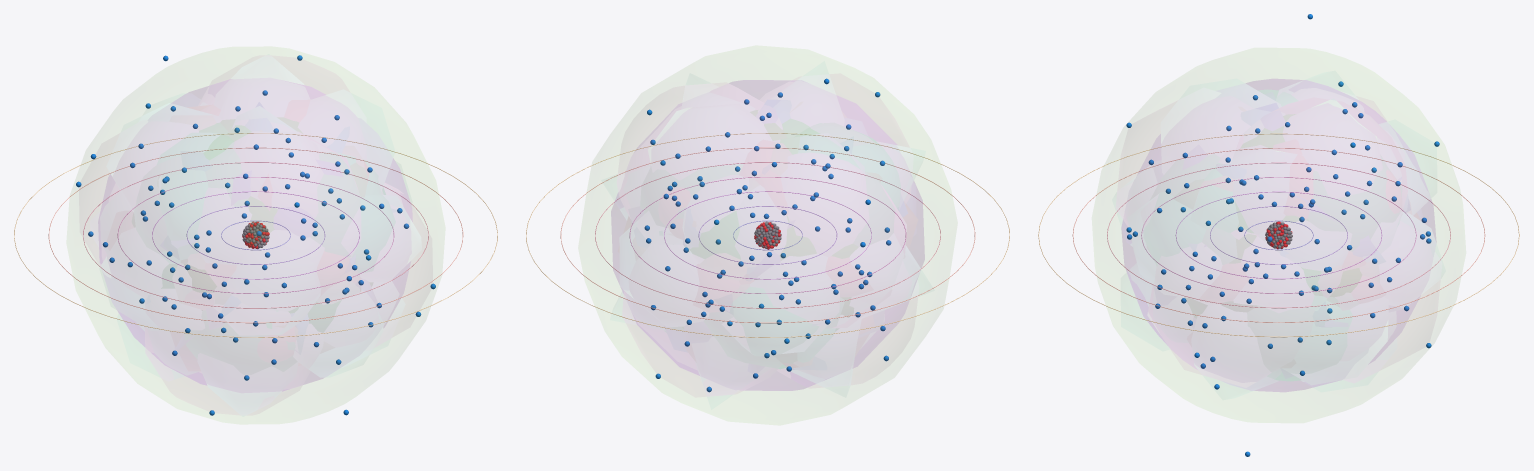
3 views of the same model, side by side, from view 1: azimuth 30°, elevation 25°; view 2: azimuth 150°, elevation 25°; view 3: azimuth 270°, elevation 25° (orthographic).
Parts seen in each view (by area): view 1: Orbital_5s_0, Nivel_n7, Nivel_n6, Nivel_n5, Nivel_n4, Nivel_n3; view 2: Orbital_5s_0, Nivel_n7, Nivel_n6, Nivel_n5, Nivel_n4, Nivel_n3; view 3: Orbital_5s_0, Nivel_n7, Nivel_n6, Nivel_n5, Nivel_n4, Nivel_n3.
Boxes of the visible parts, bbox=[...] form: Orbital_5s_0: bbox=[98, 80, 411, 390]; Nivel_n7: bbox=[14, 133, 497, 337]; Nivel_n6: bbox=[48, 147, 463, 323]; Nivel_n5: bbox=[83, 162, 428, 308]; Nivel_n4: bbox=[117, 177, 394, 293]; Nivel_n3: bbox=[152, 191, 359, 279]; Orbital_5s_0: bbox=[611, 80, 924, 390]; Nivel_n7: bbox=[526, 133, 1009, 337]; Nivel_n6: bbox=[560, 147, 975, 323]; Nivel_n5: bbox=[595, 162, 940, 308]; Nivel_n4: bbox=[629, 177, 906, 293]; Nivel_n3: bbox=[664, 191, 871, 279]; Orbital_5s_0: bbox=[1122, 79, 1435, 391]; Nivel_n7: bbox=[1038, 133, 1519, 337]; Nivel_n6: bbox=[1072, 148, 1485, 322]; Nivel_n5: bbox=[1107, 162, 1450, 308]; Nivel_n4: bbox=[1141, 177, 1416, 293]; Nivel_n3: bbox=[1175, 191, 1382, 279].
Size of the model in its own units: 2.1 by 1.93 by 2.1.
